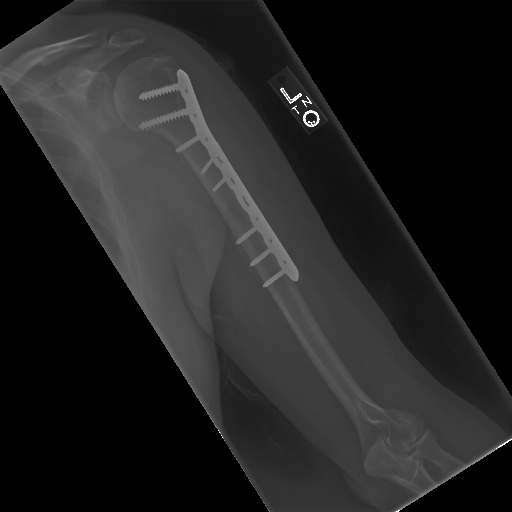implant: (133, 68, 300, 292)
